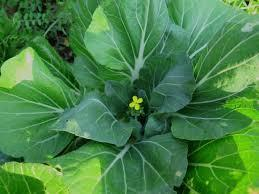Healthy-Pechay: (58, 9, 259, 194), (0, 77, 124, 190)
